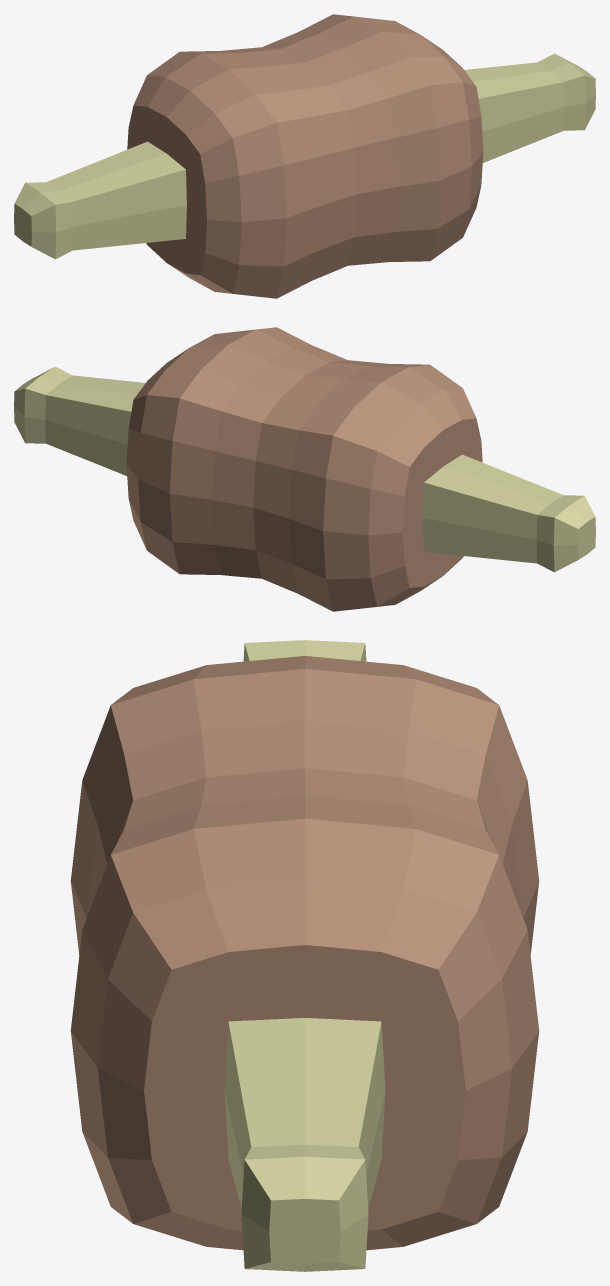
Rendered from Resource Food.fbx.
The picture shows the model from 3 angles, top to bottom: view 1: azimuth 30°, elevation 25°; view 2: azimuth 150°, elevation 25°; view 3: azimuth 270°, elevation 25°; orthographic projection. The views are drawn at different scales.
Parts seen in each view (by area): view 1: Resource Food; view 2: Resource Food; view 3: Resource Food.
Boxes of the visible parts, x1,y1,x2,y2 form: Resource Food: (14,14,595,298); Resource Food: (14,327,595,611); Resource Food: (70,640,539,1271).
Size of the model in its own units: 481 by 173 by 173.
